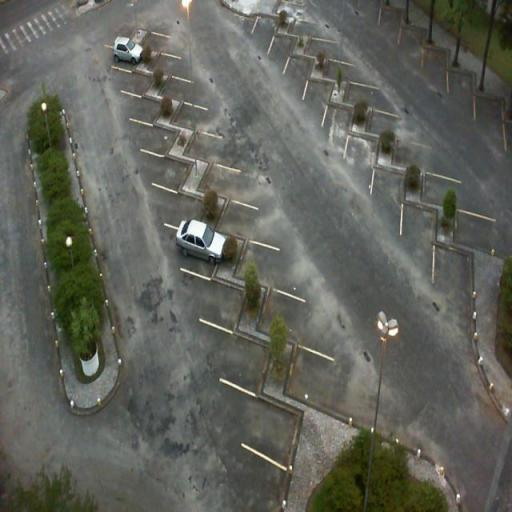Slot-empty: (214, 373, 300, 473), (193, 312, 276, 409), (260, 284, 340, 358), (283, 334, 356, 412), (179, 262, 251, 334), (240, 233, 310, 305), (393, 192, 445, 276), (202, 158, 270, 218), (428, 236, 483, 310), (219, 195, 286, 253), (146, 169, 206, 233), (364, 158, 409, 236), (296, 76, 344, 135), (174, 90, 230, 140), (187, 124, 244, 170), (339, 128, 381, 189), (160, 68, 216, 110), (139, 147, 190, 193), (128, 114, 176, 161), (118, 85, 163, 128), (107, 60, 153, 102), (322, 105, 351, 161), (280, 50, 312, 100), (247, 10, 282, 53), (156, 49, 198, 83), (265, 31, 293, 76)
Slot-occupied: (160, 212, 230, 282), (103, 36, 146, 72)
